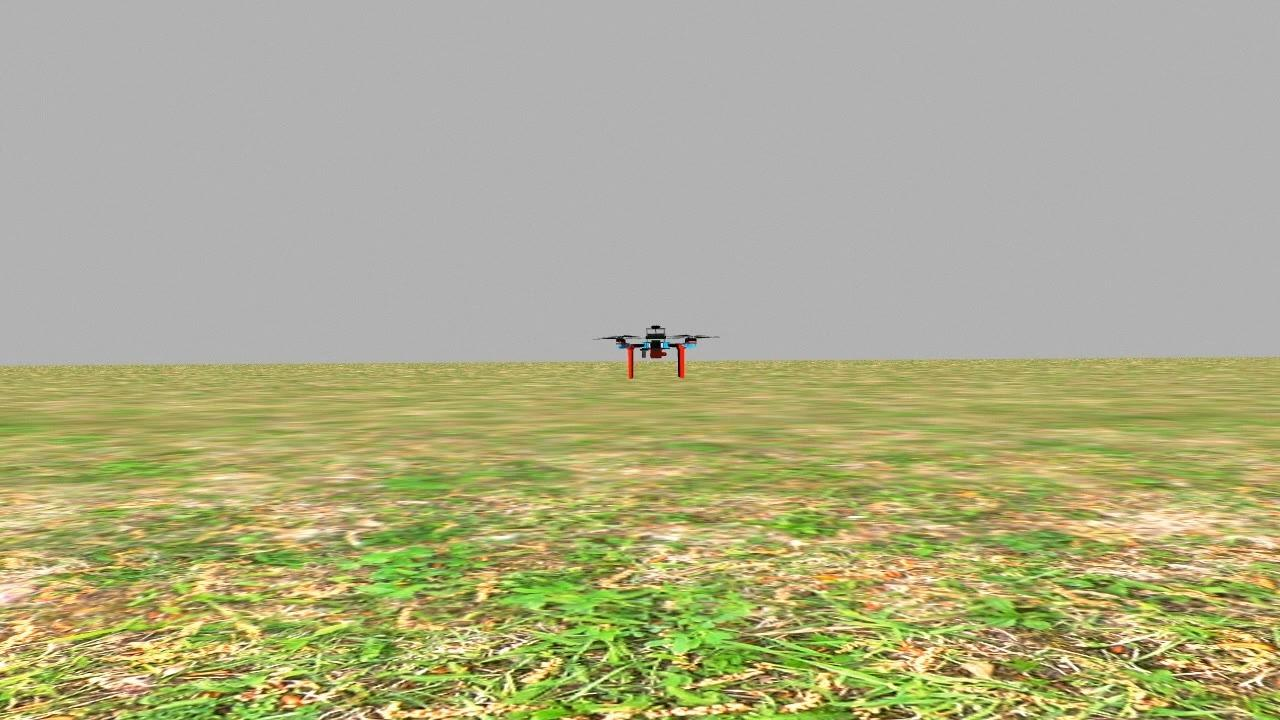UAV: (589, 316, 723, 388)
